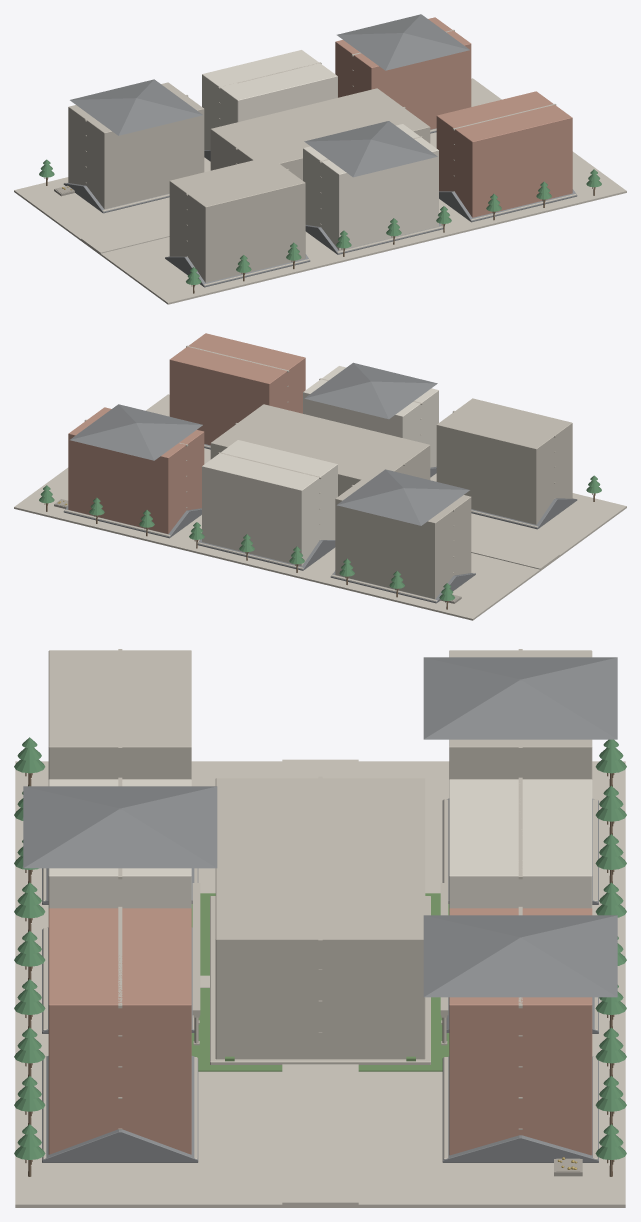
The model's file is DISTRICT_H_URBAN_AXIS.glb.
3 views of the same model, one above another, from view 1: azimuth 30°, elevation 25°; view 2: azimuth 150°, elevation 25°; view 3: azimuth 270°, elevation 25° (orthographic). The views are drawn at different scales.
Parts seen in each view (by area): view 1: Axis_Ground, Mass, Mass.004, Mass.001, Mass.002, Mass.006, Mass.003, Mass.005, Roof_HipEnd, Roof_HipEnd.002, Roof_HipEnd.001, Axis_Spine (+4 smaller); view 2: Axis_Ground, Mass.003, Mass, Mass.004, Mass.001, Mass.005, Mass.006, Roof_HipEnd.002, Roof_HipEnd, Roof_HipEnd.001, Mass.002, Axis_Spine (+4 smaller); view 3: Mass.006, Axis_Ground, Mass.004, Mass.005, Mass, Mass.003, Roof_HipEnd, Roof_HipEnd.001, Roof_HipEnd.002, Axis_Spine, Mass.001, Mass.002 (+9 smaller).
Part boxes in pixels (left/top/right/bottom): Axis_Ground: left=14, top=78, right=626, bottom=304; Mass: left=169, top=156, right=305, bottom=282; Mass.004: left=436, top=91, right=572, bottom=217; Mass.001: left=68, top=82, right=204, bottom=209; Mass.002: left=303, top=124, right=438, bottom=250; Mass.006: left=210, top=88, right=430, bottom=180; Mass.003: left=202, top=50, right=337, bottom=149; Mass.005: left=335, top=17, right=471, bottom=129; Roof_HipEnd: left=70, top=79, right=202, bottom=135; Roof_HipEnd.002: left=337, top=14, right=469, bottom=70; Roof_HipEnd.001: left=304, top=121, right=437, bottom=177; Axis_Spine: left=81, top=217, right=169, bottom=253; Axis_Ground: left=14, top=394, right=626, bottom=620; Mass.003: left=202, top=440, right=337, bottom=566; Mass: left=436, top=398, right=572, bottom=524; Mass.004: left=169, top=333, right=305, bottom=445; Mass.001: left=335, top=472, right=471, bottom=599; Mass.005: left=68, top=407, right=204, bottom=533; Mass.006: left=210, top=404, right=430, bottom=496; Roof_HipEnd.002: left=70, top=404, right=202, bottom=460; Roof_HipEnd: left=337, top=469, right=469, bottom=525; Roof_HipEnd.001: left=304, top=362, right=437, bottom=419; Mass.002: left=303, top=366, right=438, bottom=467; Axis_Spine: left=471, top=533, right=559, bottom=569; Mass.006: left=215, top=778, right=425, bottom=1059; Axis_Ground: left=15, top=761, right=625, bottom=1207; Mass.004: left=48, top=908, right=191, bottom=1154; Mass.005: left=449, top=908, right=592, bottom=1155; Mass: left=48, top=650, right=191, bottom=779; Mass.003: left=449, top=779, right=592, bottom=908; Roof_HipEnd: left=423, top=657, right=617, bottom=739; Roof_HipEnd.001: left=23, top=786, right=217, bottom=868; Roof_HipEnd.002: left=423, top=915, right=617, bottom=997; Axis_Spine: left=282, top=759, right=358, bottom=1204; Mass.001: left=449, top=650, right=592, bottom=779; Mass.002: left=48, top=779, right=191, bottom=908.
Size of the model in its own units: 110 by 20.56 by 64.3.
